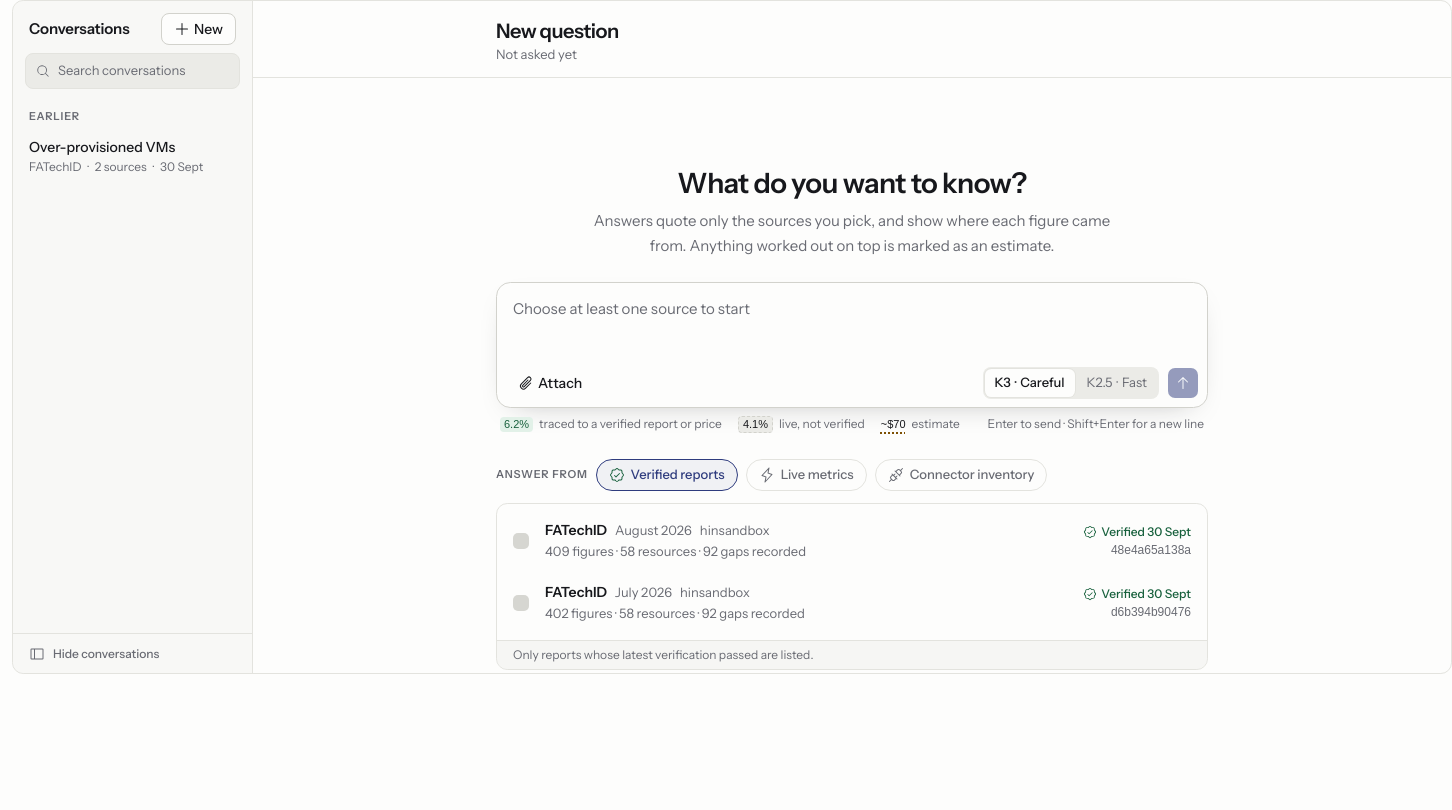
Test: AskWorkspace, a new question › starts from choosing sources, with no conversation made yet
This screenshot has width=1452, height=810.
Expected: the heading "New question" is shown, [496,19,619,43]
Expected: the heading "What do you want to know?" is shown, [677,166,1027,201]
Click the checkbox in the row of "August 2026": (521, 541) [513,533,529,549]
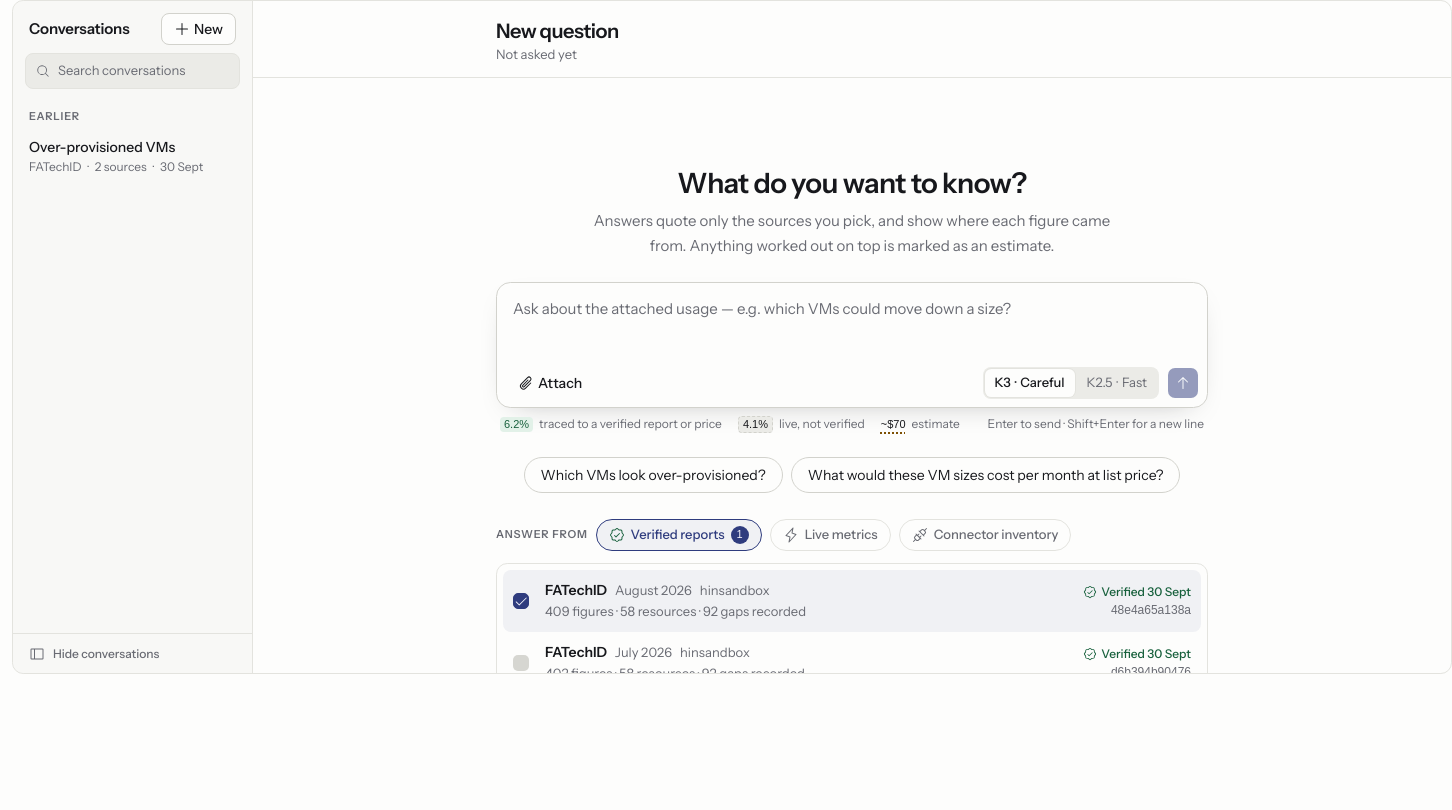
Expected: the button "Which VMs look over-provisioned?" is shown, [524,457,783,493]
